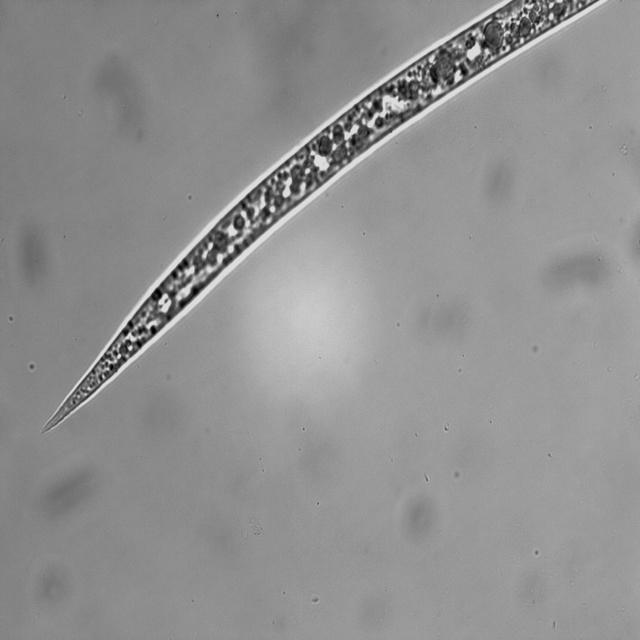Meloidogyne: (32, 0, 640, 443)
